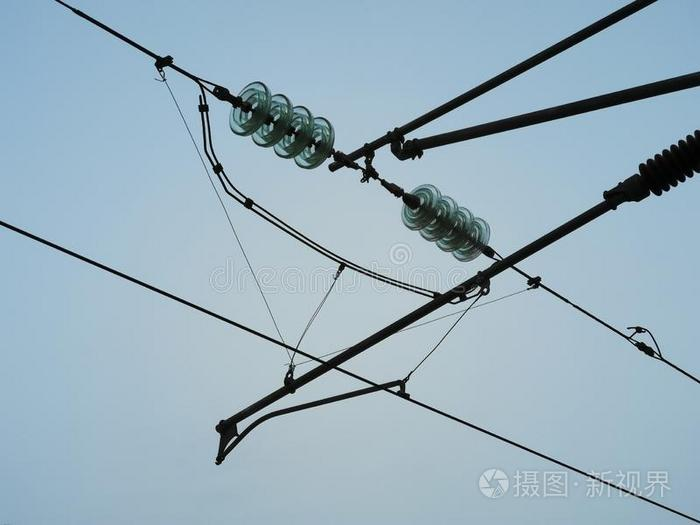insulator: (231, 79, 336, 170), (404, 182, 492, 262), (639, 126, 700, 193)
